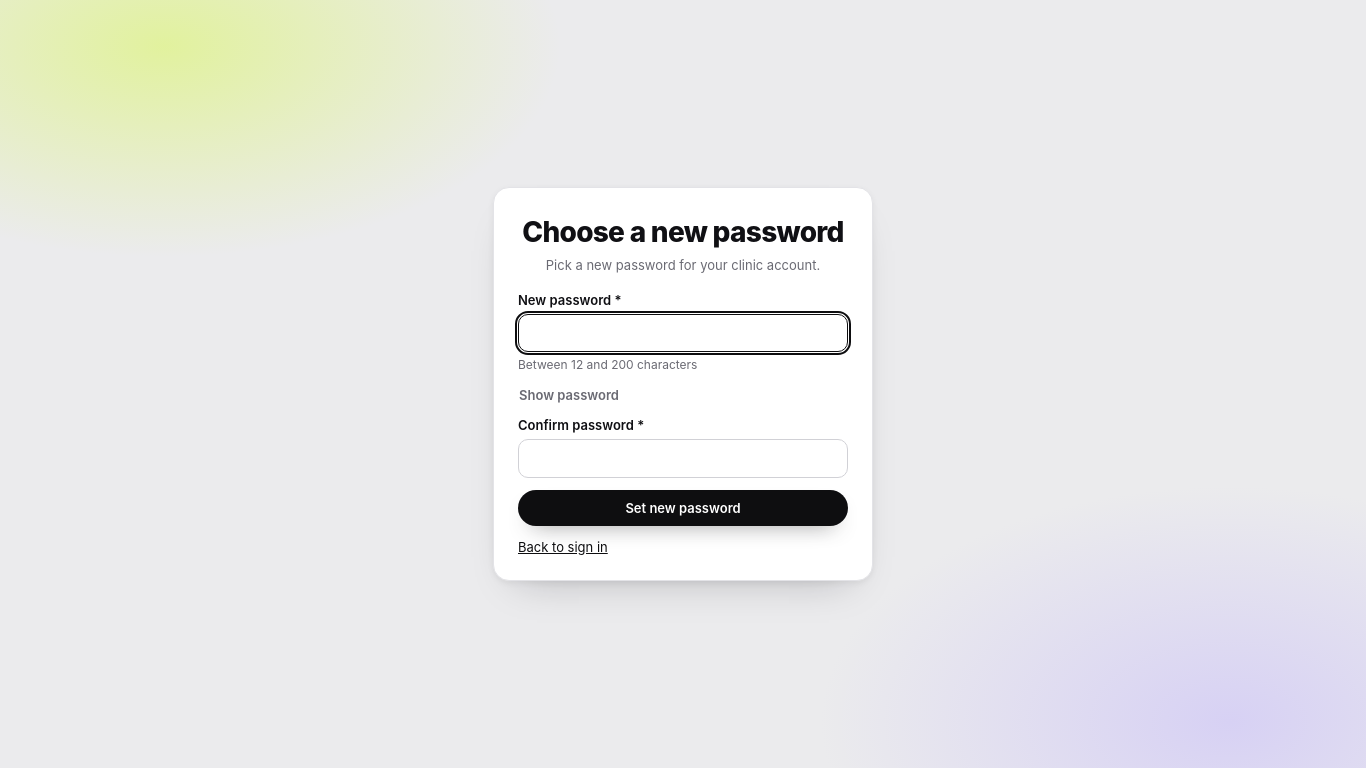
Test: ResetPasswordPage › validates password length and confirmation before submitting
The image size is (1366, 768).
Type "short" into the password field labelled "New password *" at (683, 333), box 518,314 -> 848,352
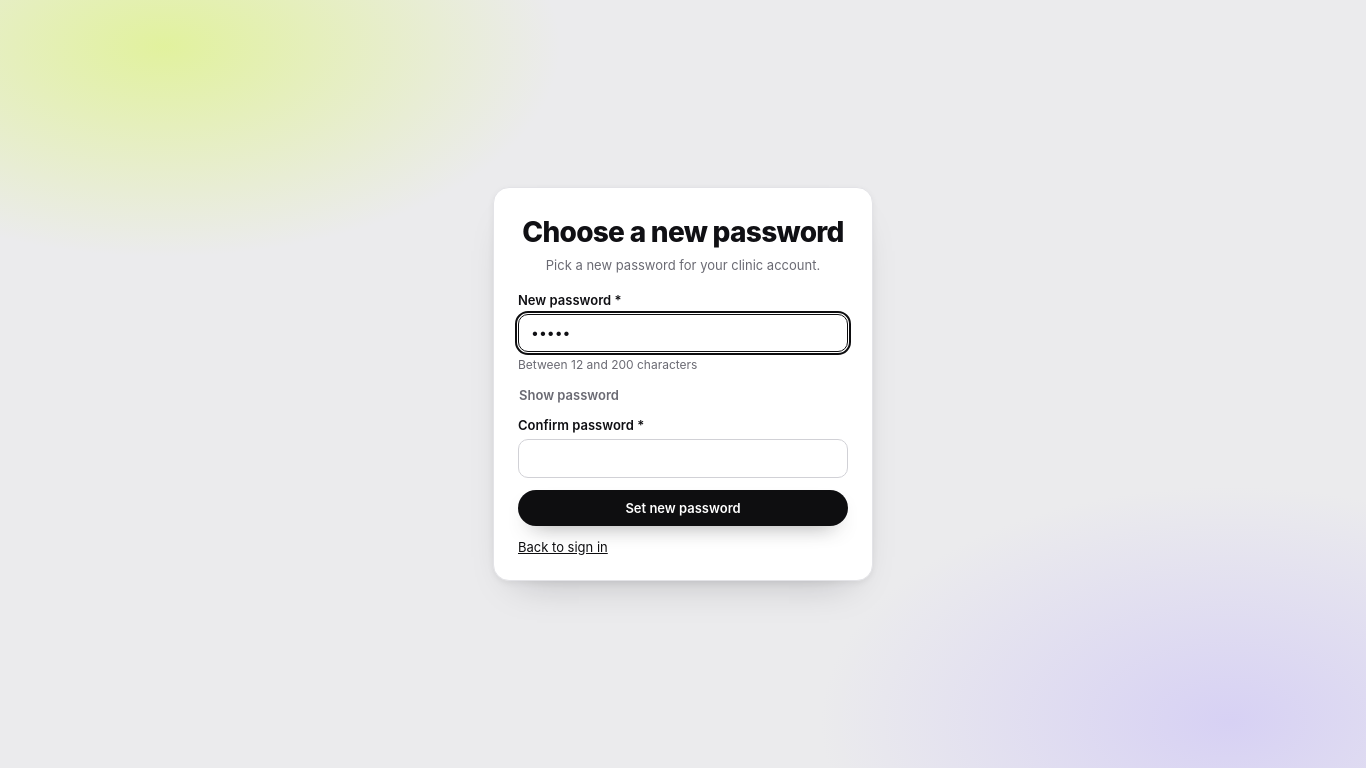
Type "short" into the password field labelled "Confirm password *" at (683, 458), box 518,439 -> 848,478
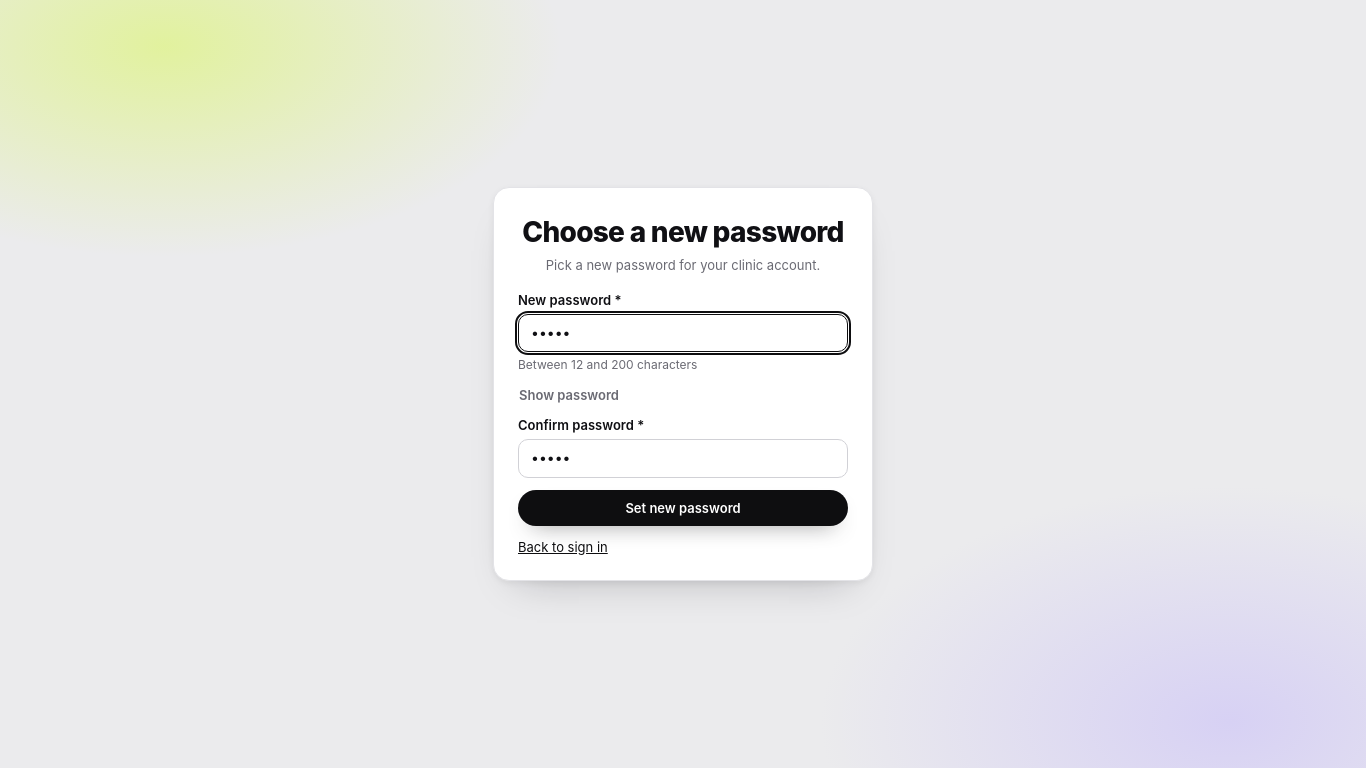
Click the button "Set new password" at (683, 508), box 518,490 -> 848,526
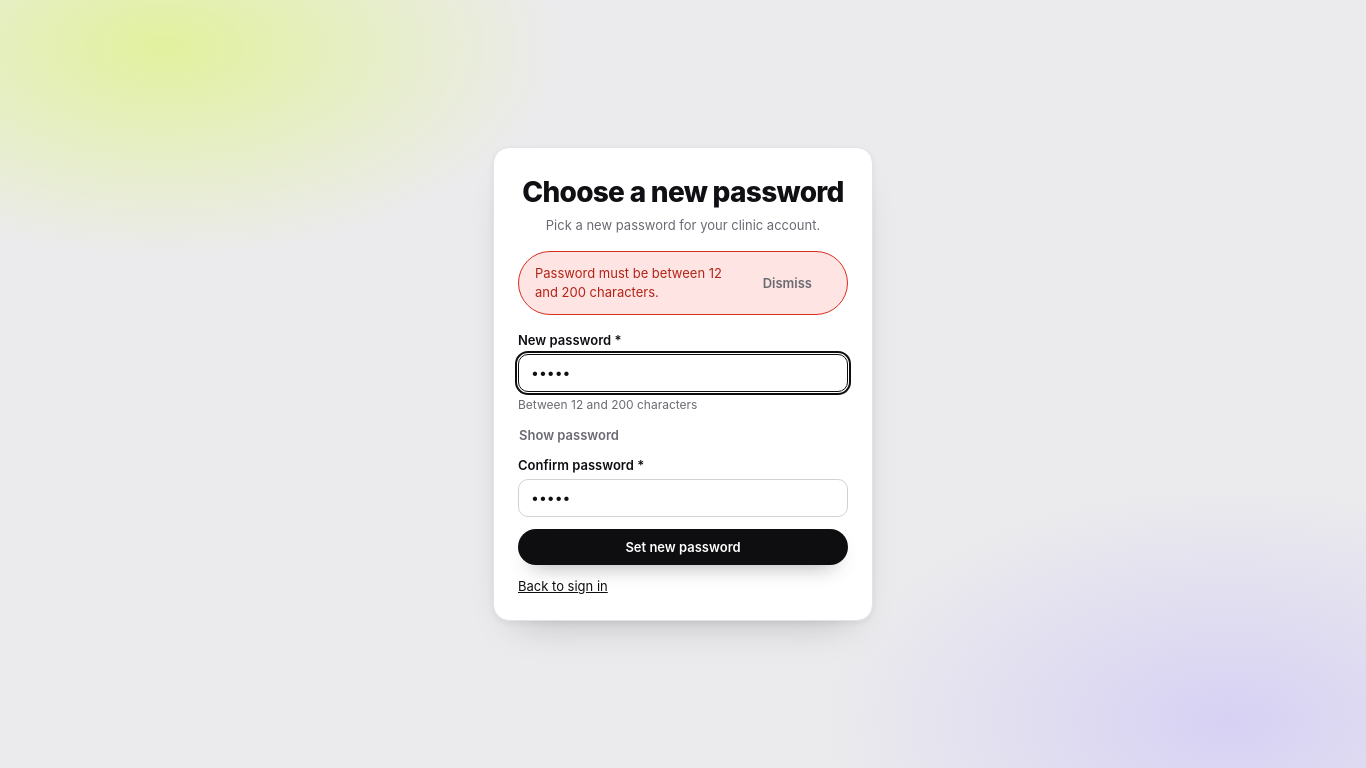
Expected: the text "Password must be between 12 and 200 characters." is shown, 535,264 -> 732,302
Type "longenoughpass1" into the password field labelled "New password *" at (683, 373), box 518,354 -> 848,392
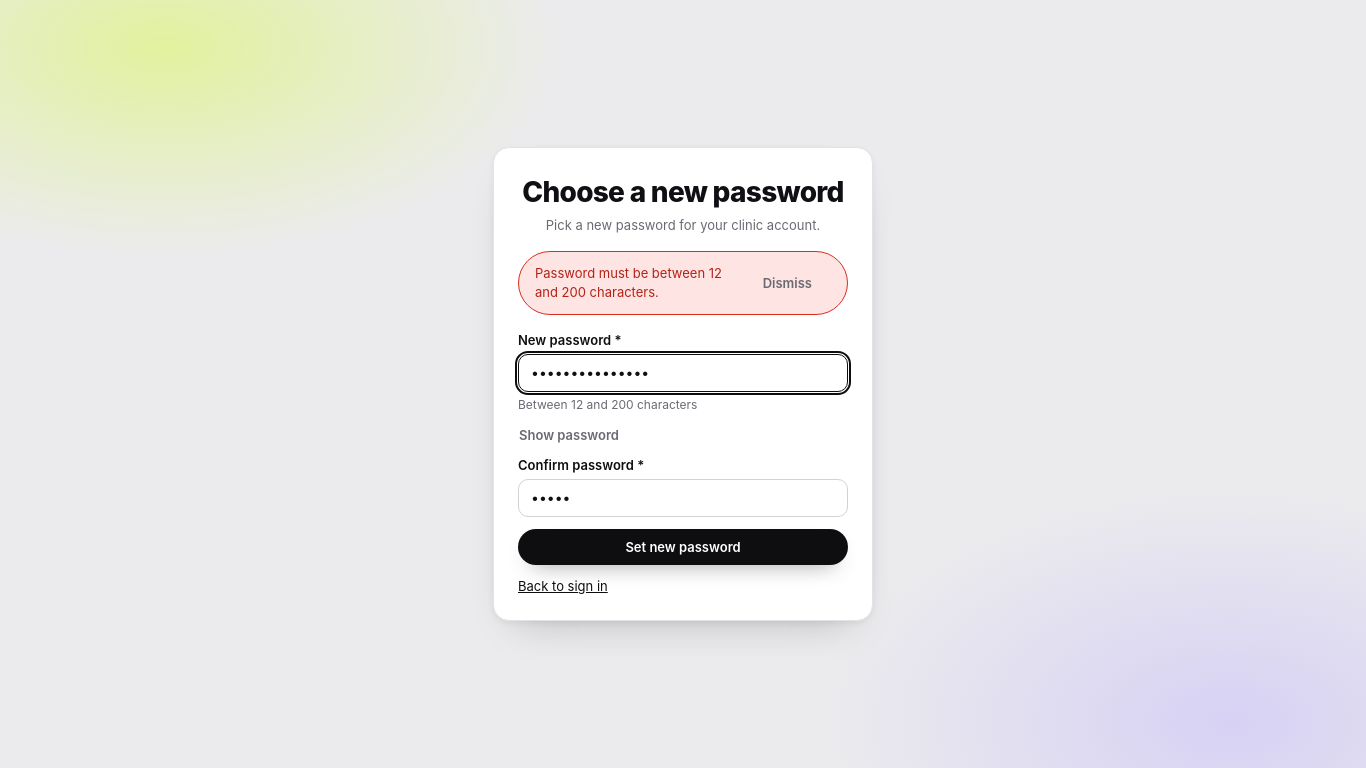
Click the button "Set new password" at (683, 548), box 518,530 -> 848,566
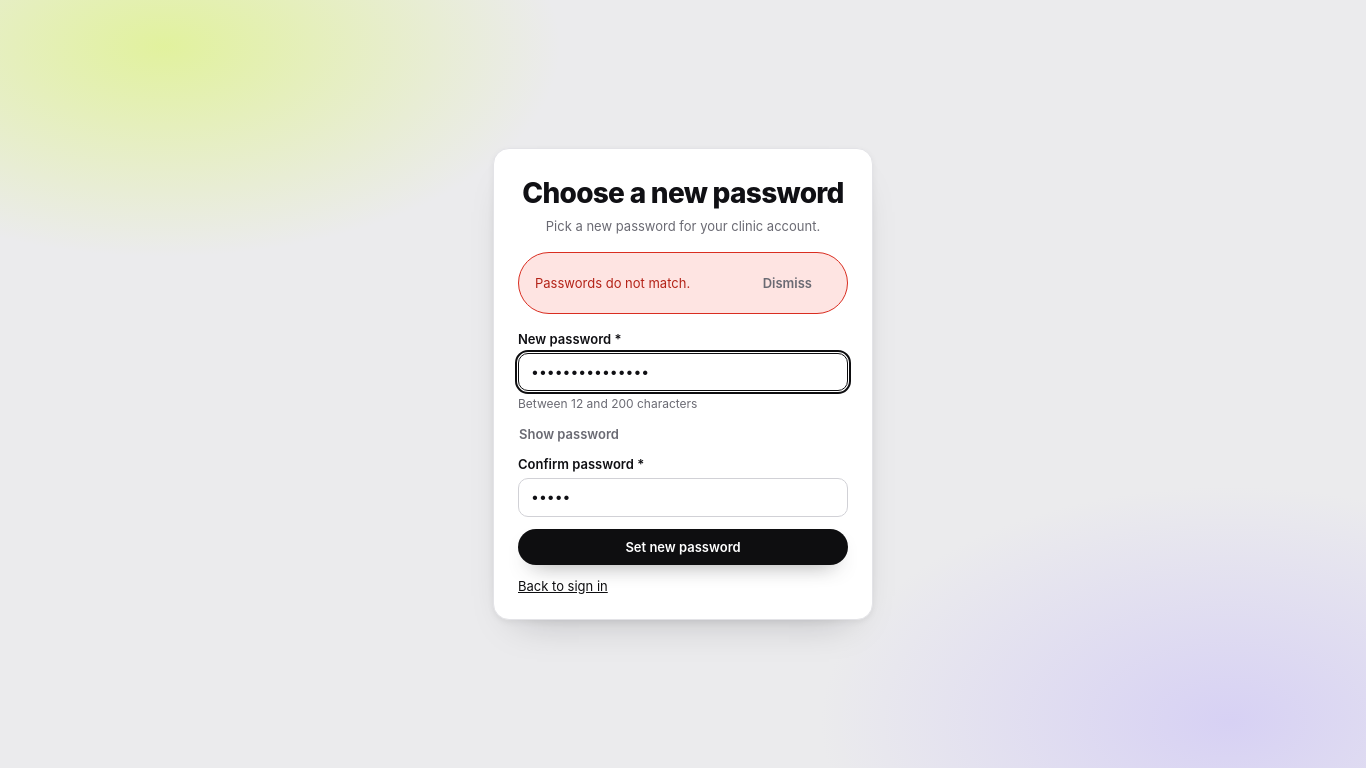
Expected: the text "Passwords do not match." is shown, 535,274 -> 690,292
